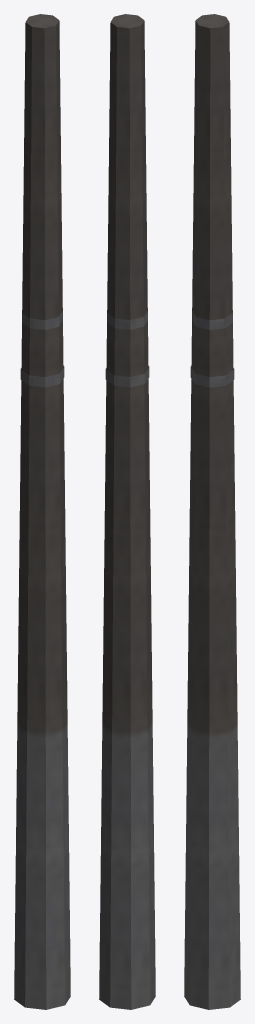
File: pole_2.obj
The picture shows the model from 3 angles, left to right: view 1: azimuth 30°, elevation 25°; view 2: azimuth 210°, elevation 25°; view 3: azimuth 330°, elevation 25°; orthographic projection.
Parts seen in each view (by area): view 1: RAIL_BASE, RAIL_LEFT; view 2: RAIL_BASE, RAIL_RIGHT; view 3: RAIL_BASE, RAIL_LEFT.
Boxes of the visible parts, left/top/right/bottom form: RAIL_BASE: left=14, top=14, right=70, bottom=1009; RAIL_LEFT: left=20, top=311, right=64, bottom=387; RAIL_BASE: left=99, top=14, right=155, bottom=1009; RAIL_RIGHT: left=107, top=311, right=149, bottom=387; RAIL_BASE: left=184, top=14, right=240, bottom=1009; RAIL_LEFT: left=190, top=311, right=234, bottom=387.
Size of the model in its own units: 0.4642 by 9.47 by 0.4642.
2 materials, 2 textured.
